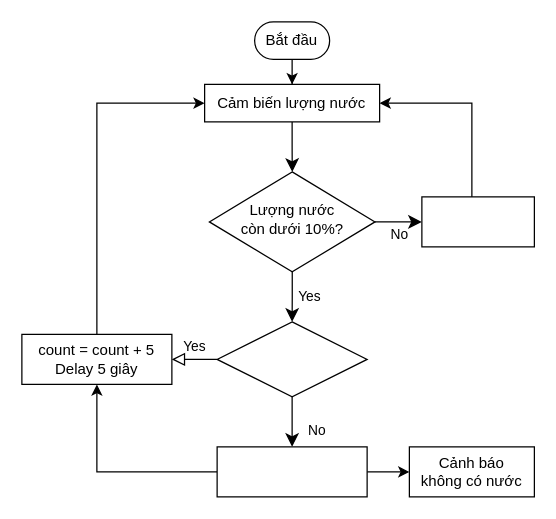
Some shapes in this 556 by 519 pixel diagram are drawn without their labels. Each missing label, with the centre of its shape:
"Bình chứa đầy chưa?" belongs at point 291,359.
"count = 0 delay 5 giây" belongs at point 477,221.
"count >= 600" belongs at point 291,471.
